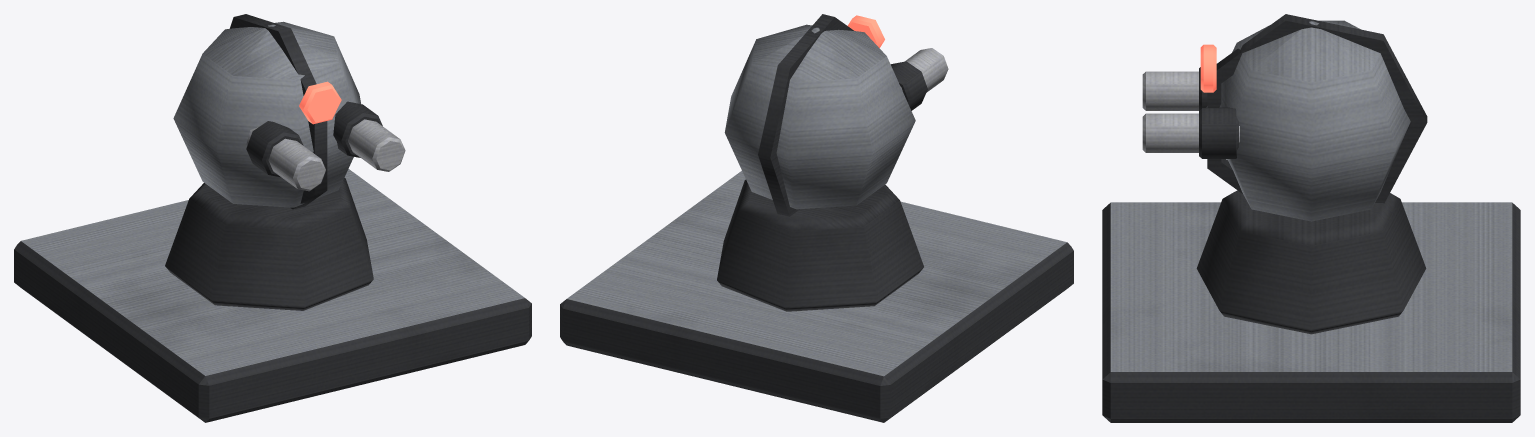
Rendered from R4X_PointDefense_LOD1.glb.
3 renders of one model, left to right at view 1: azimuth 30°, elevation 25°; view 2: azimuth 150°, elevation 25°; view 3: azimuth 270°, elevation 25°, orthographic. The views are drawn at different scales.
Parts seen in each view (by area): view 1: R4X_PointDefense_LOD1; view 2: R4X_PointDefense_LOD1; view 3: R4X_PointDefense_LOD1.
Part boxes in pixels (box(x1,y1,x2,y2)): R4X_PointDefense_LOD1: box(14, 14, 531, 422); R4X_PointDefense_LOD1: box(560, 14, 1073, 422); R4X_PointDefense_LOD1: box(1102, 14, 1520, 422).
Size of the model in its own units: 0.52 by 0.4403 by 0.52.
Materials: 4 (3 with a texture image).
